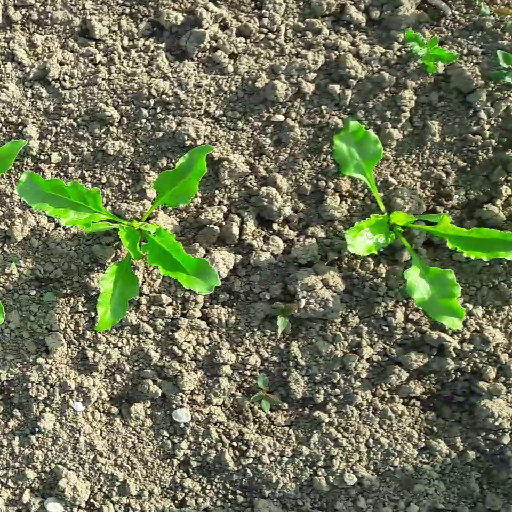sugarbeet: (12, 141, 222, 335), (327, 113, 512, 333)
weed: (399, 26, 464, 77), (242, 372, 289, 417), (260, 301, 301, 341), (488, 48, 512, 88), (37, 283, 66, 305), (7, 256, 23, 270)
